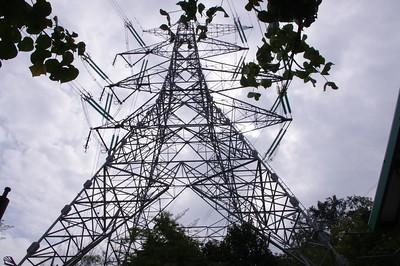power_tower: (38, 13, 337, 266)
